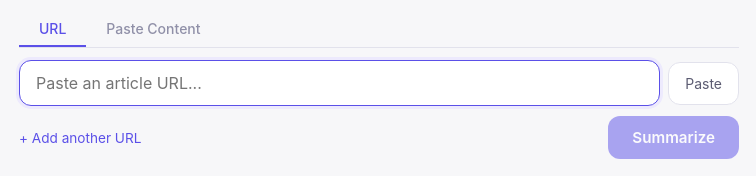
Test: UrlInput › shouldEnableSubmitButtonWhenValidHttpsUrlEntered
Type "https://example.com/article" into the field with placeholder "Paste an article URL..." at (340, 83), box x1=19 y1=60 x2=660 y2=106
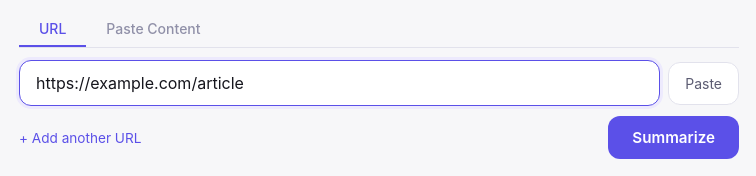
Expected: the button "Summarize" is enabled, x1=608 y1=116 x2=739 y2=159
